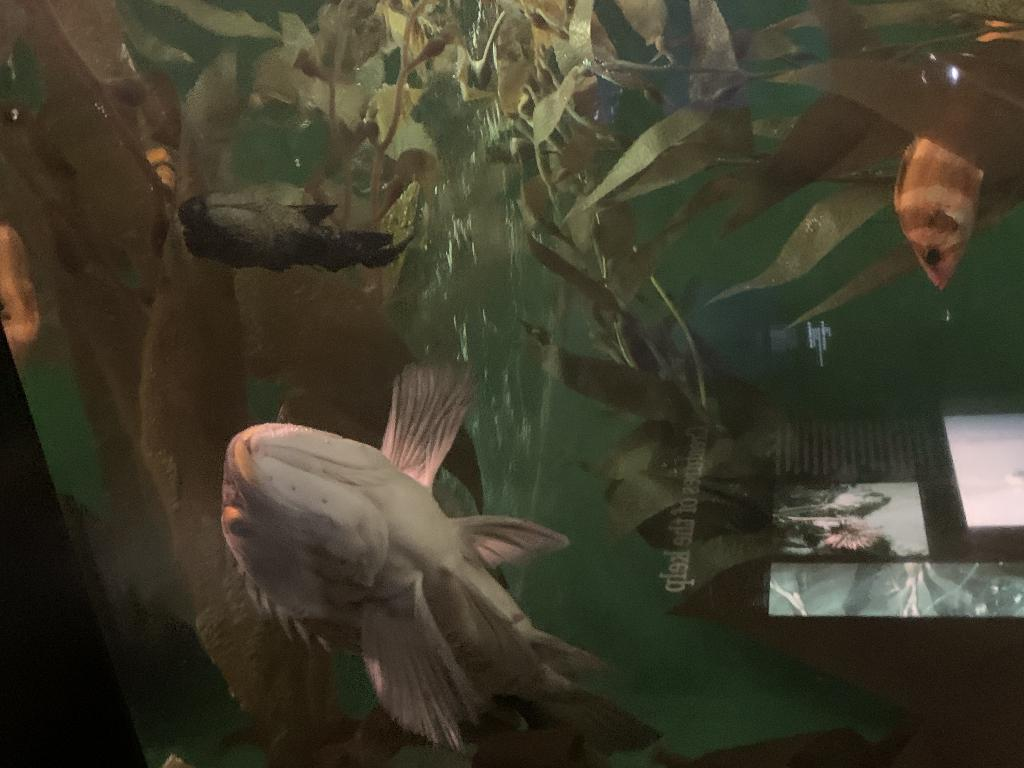fish: (217, 357, 667, 763), (892, 11, 1022, 292), (180, 200, 334, 258)
